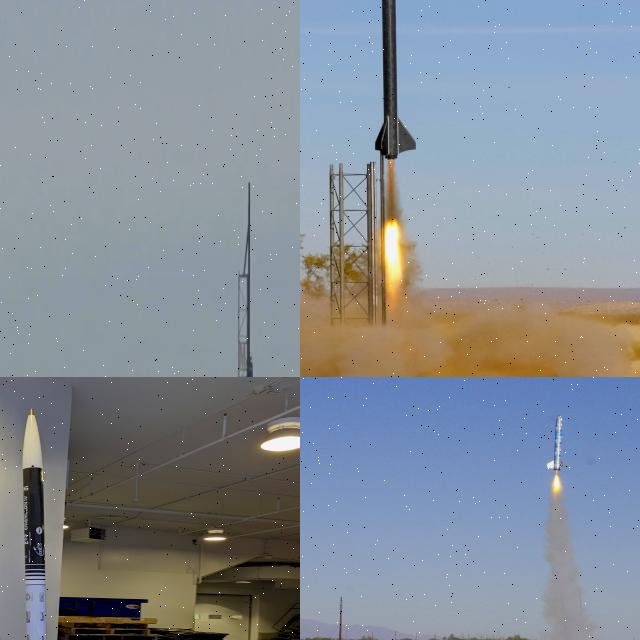Rocket: (373, 0, 418, 160), (22, 408, 47, 640), (547, 415, 565, 471)
